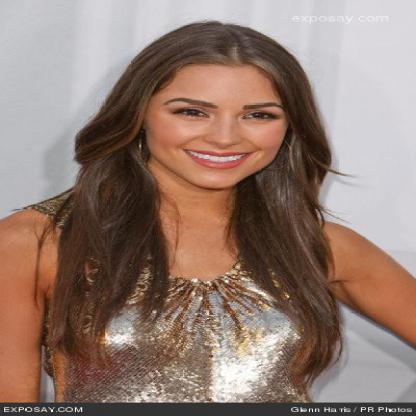long-hair: (23, 194, 348, 258)
